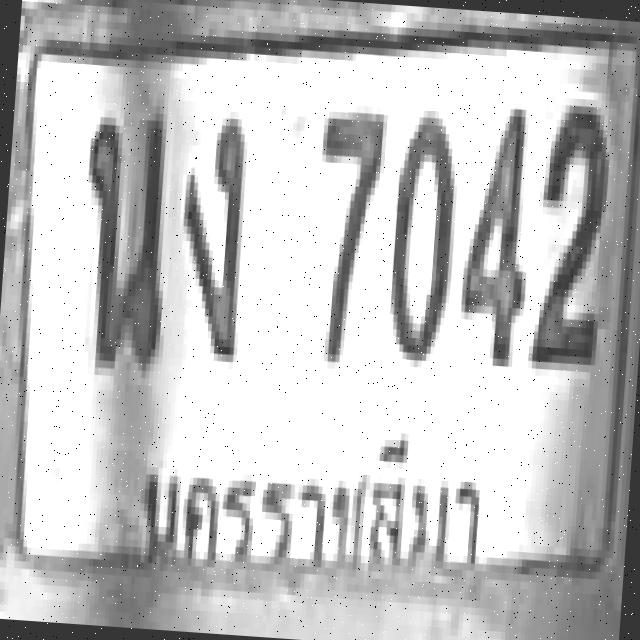0: (382, 101, 459, 362)
16NgorNgu: (170, 100, 250, 362)
2: (528, 96, 609, 365)
34NorNu: (71, 98, 172, 368)
4: (454, 94, 534, 363)
7: (303, 99, 384, 368)
NakhonRatchasima: (117, 405, 500, 614)
